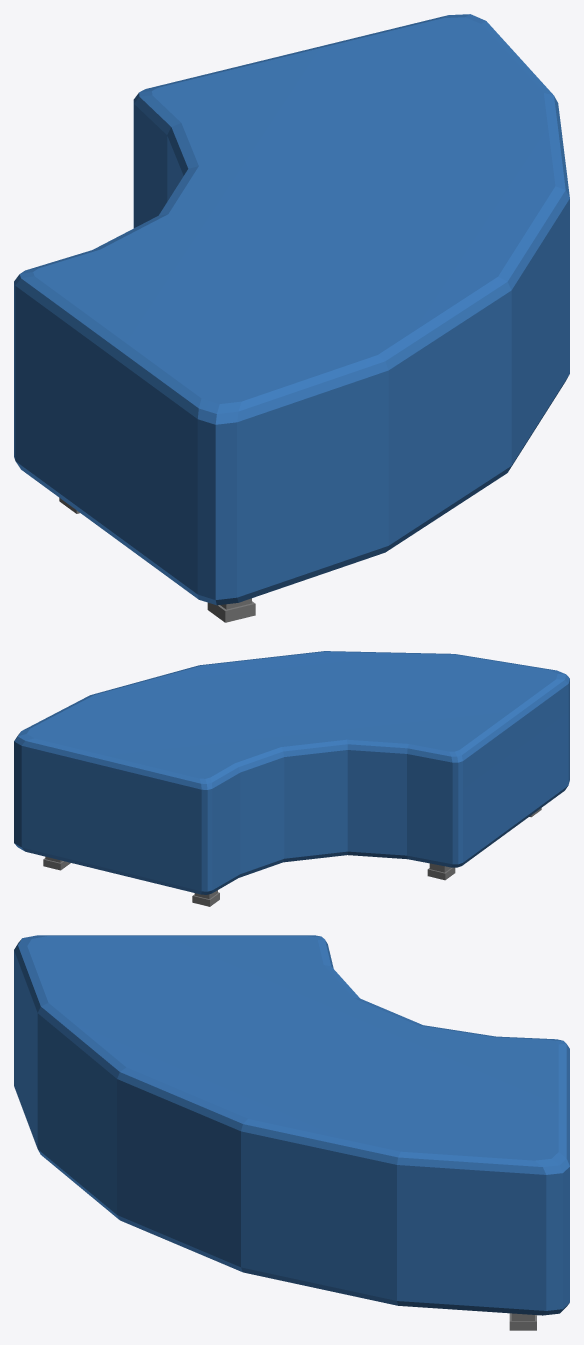
File: Int_Pouf01_1.fbx
3 views of the same model, one above another, from view 1: azimuth 30°, elevation 25°; view 2: azimuth 150°, elevation 25°; view 3: azimuth 270°, elevation 25° (orthographic). The views are drawn at different scales.
Parts seen in each view (by area): view 1: Int_Pouf01_1; view 2: Int_Pouf01_1; view 3: Int_Pouf01_1.
Boxes of the visible parts, left/top/right/bottom form: Int_Pouf01_1: left=14, top=14, right=569, bottom=622; Int_Pouf01_1: left=14, top=651, right=569, bottom=906; Int_Pouf01_1: left=14, top=935, right=569, bottom=1330.
Size of what is drawn, in the model's own units: 169 by 169 by 60.02.
